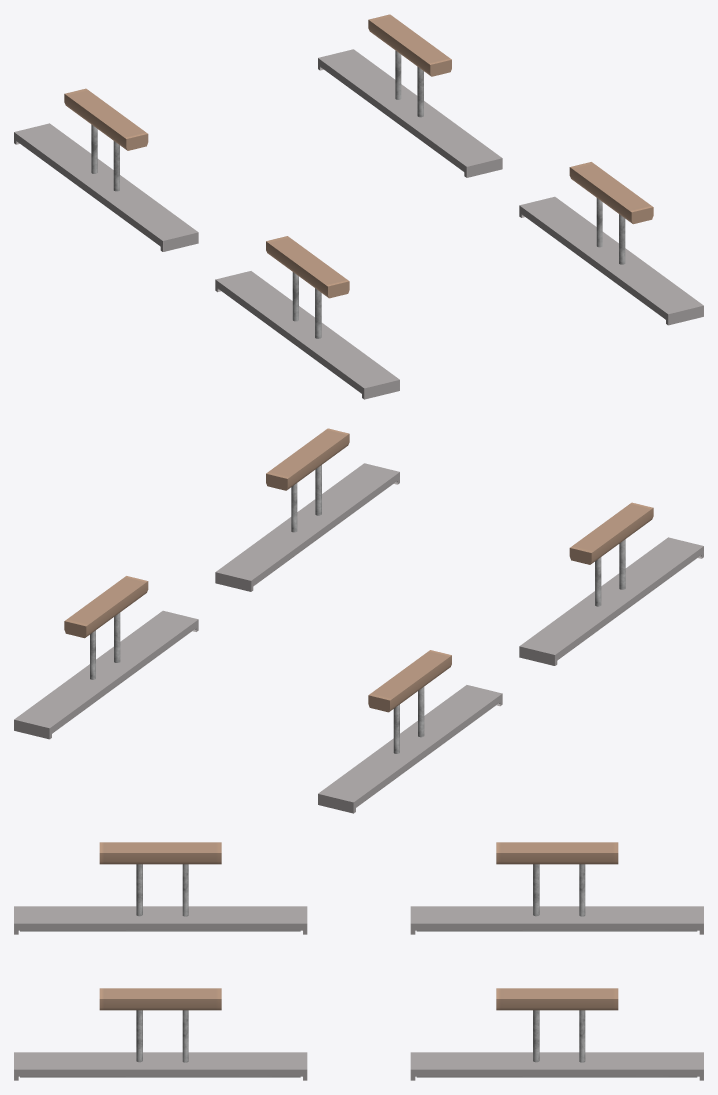
The model's file is LAMPARAS.fbx.
3 views of the same model, one above another, from view 1: azimuth 30°, elevation 25°; view 2: azimuth 150°, elevation 25°; view 3: azimuth 270°, elevation 25° (orthographic).
Parts seen in each view (by area): view 1: polySurface265, polySurface266, polySurface267, polySurface264; view 2: polySurface264, polySurface266, polySurface265, polySurface267; view 3: polySurface267, polySurface265, polySurface266, polySurface264.
Boxes of the visible parts, x1,y1,x2,y2 form: polySurface265: [14, 88, 198, 251]; polySurface266: [519, 162, 703, 325]; polySurface267: [318, 14, 502, 177]; polySurface264: [215, 236, 399, 399]; polySurface264: [519, 502, 703, 665]; polySurface266: [215, 428, 399, 591]; polySurface265: [318, 650, 502, 813]; polySurface267: [14, 576, 198, 739]; polySurface267: [410, 988, 703, 1080]; polySurface265: [410, 842, 703, 934]; polySurface266: [14, 988, 307, 1080]; polySurface264: [14, 842, 307, 934].
Size of the model in its own units: 33.45 by 7.59 by 59.76.
Materials: 1 (1 with a texture image).
